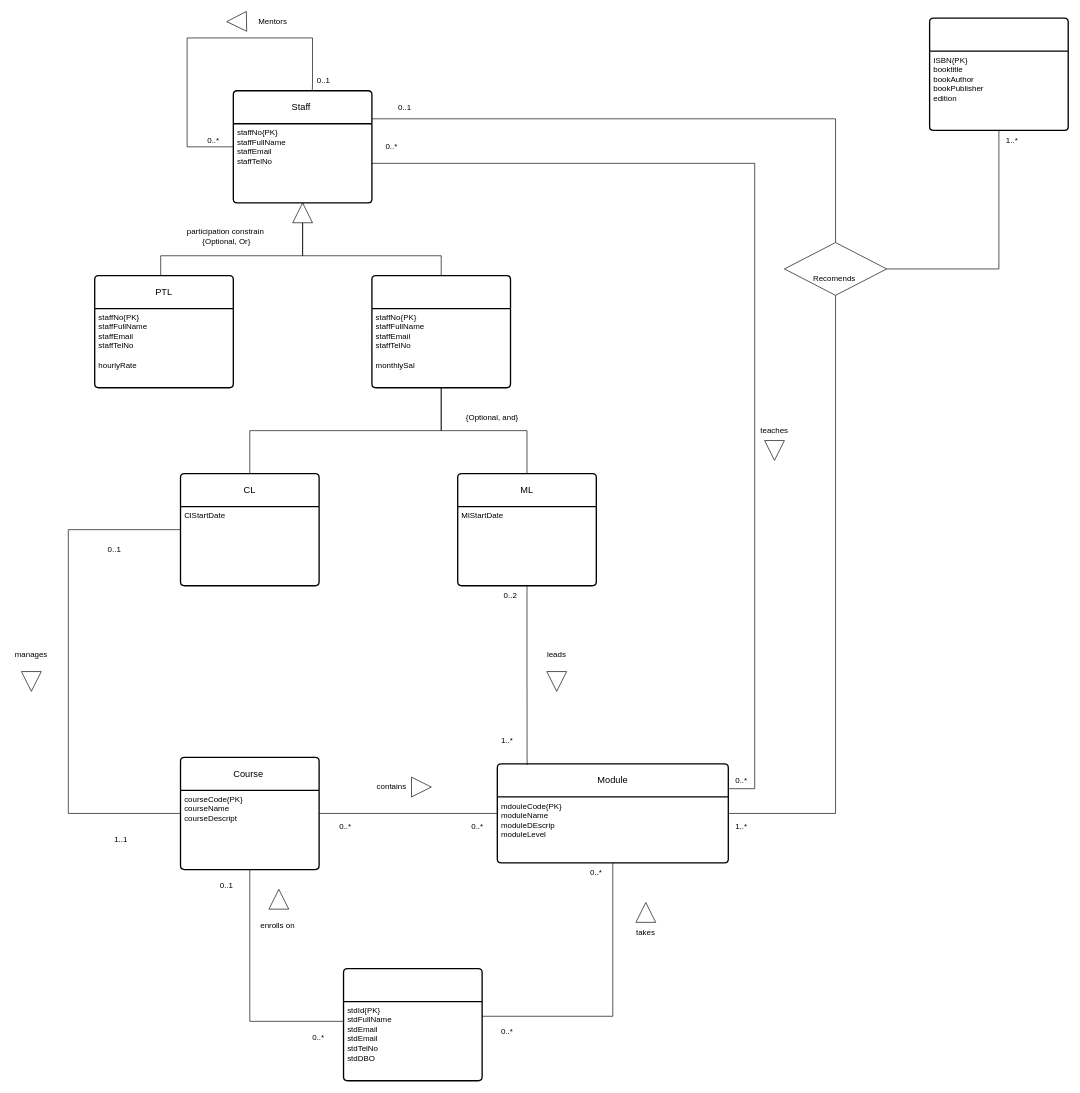
Some shapes in this 1080 by 1093 pixel diagram are drawn without their labels. Each missing label, with the box of its shape:
FTL: (371, 275, 511, 388)
Student: (343, 968, 482, 1081)
Textbook: (929, 17, 1069, 131)
